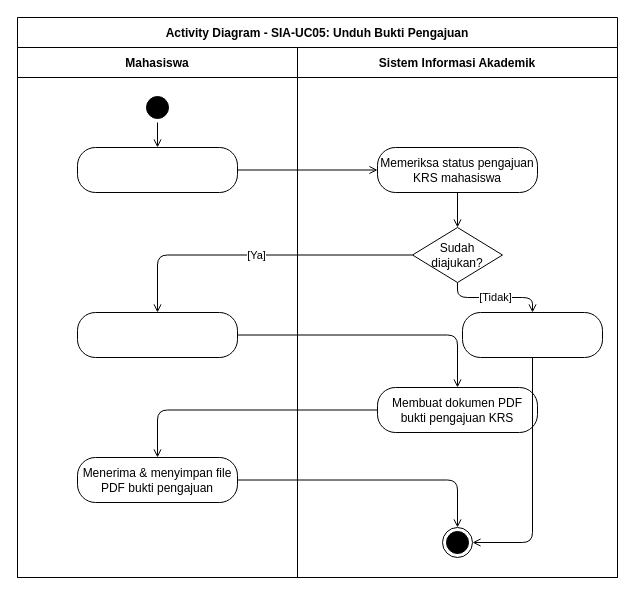
Some shapes in this 635 by 595 pixel diagram are drawn without their labels. Each missing label, with the centre of its shape:
"Klik tombol Unduh Bukti Pengajuan" goes at point (157, 335).
"Membuka halaman Status Pengajuan KRS" goes at point (157, 169).
"Menampilkan info KRS belum diajukan" goes at point (532, 335).
